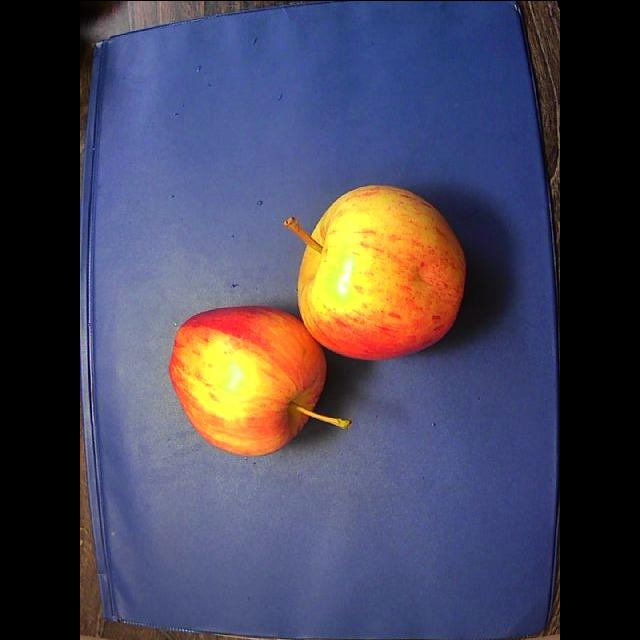manzana: (284, 184, 466, 358), (169, 307, 350, 456)
